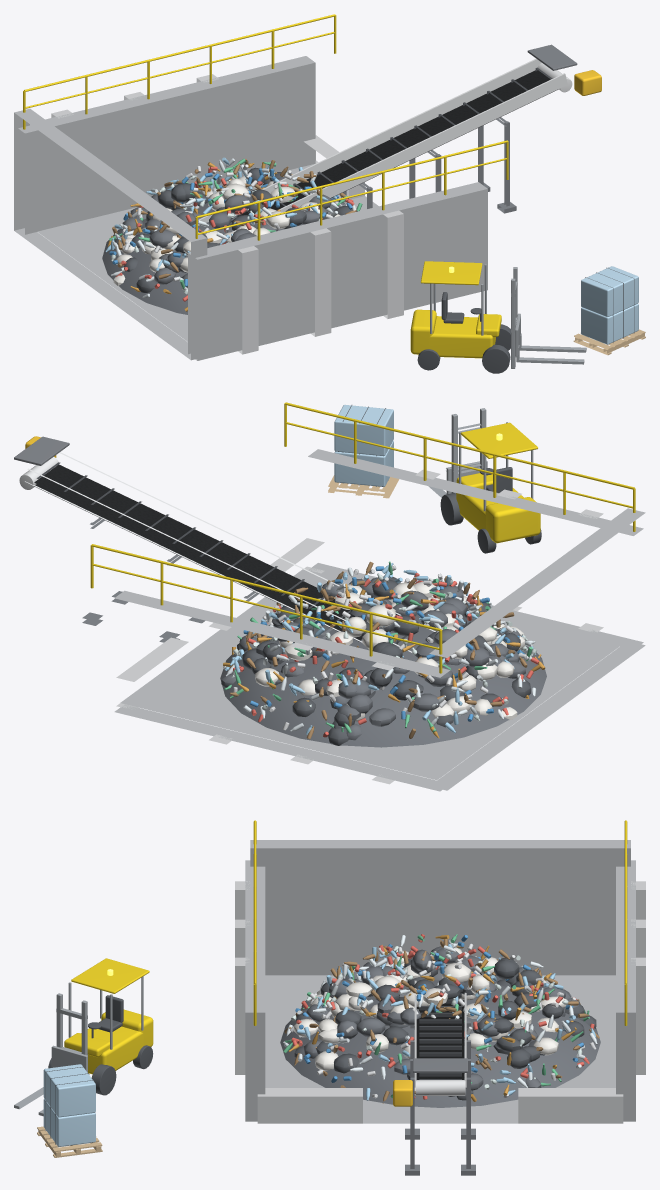
The model's file is recepcion.glb.
3 views of the same model, one above another, from view 1: azimuth 30°, elevation 25°; view 2: azimuth 150°, elevation 25°; view 3: azimuth 270°, elevation 25° (orthographic). The views are drawn at different scales.
Visible parts, largest first — view 1: hormigon, amarillo_seg, acero, hormigon_claro, res_base, llanta, banda_goma, paca_pet, bolsa_blanca, acero_oscuro, estructura_gris, res_pet_cola (+10 smaller); view 2: hormigon, res_base, amarillo_seg, banda_goma, llanta, bolsa_blanca, paca_pet, hormigon_claro, res_pet_claro, acero, res_pet_azul, res_pet_cola (+10 smaller); view 3: hormigon, res_base, hormigon_claro, llanta, amarillo_seg, bolsa_blanca, paca_pet, acero_oscuro, estructura_gris, res_pet_cola, res_pet_claro, res_pet_azul (+11 smaller).
Boxes of the visible parts, <box> form: hormigon: <box>14,56,487,360</box>; amarillo_seg: <box>23,14,508,358</box>; acero: <box>191,58,572,232</box>; hormigon_claro: <box>51,74,403,354</box>; res_base: <box>102,177,347,314</box>; llanta: <box>114,167,634,373</box>; banda_goma: <box>235,70,558,216</box>; paca_pet: <box>581,266,638,344</box>; bolsa_blanca: <box>113,176,340,286</box>; acero_oscuro: <box>342,44,577,213</box>; estructura_gris: <box>430,264,586,368</box>; res_pet_cola: <box>112,158,356,278</box>; hormigon: <box>114,449,645,791</box>; res_base: <box>220,577,546,747</box>; amarillo_seg: <box>90,402,635,673</box>; banda_goma: <box>34,464,362,641</box>; llanta: <box>237,405,541,745</box>; bolsa_blanca: <box>255,581,524,721</box>; paca_pet: <box>334,405,393,486</box>; hormigon_claro: <box>116,469,603,784</box>; res_pet_claro: <box>226,567,536,731</box>; acero: <box>19,452,435,652</box>; res_pet_azul: <box>225,563,536,734</box>; res_pet_cola: <box>230,561,527,739</box>; hormigon: <box>245,840,635,1123</box>; res_base: <box>280,946,600,1107</box>; hormigon_claro: <box>235,881,645,1123</box>; llanta: <box>45,957,596,1144</box>; amarillo_seg: <box>64,820,627,1074</box>; bolsa_blanca: <box>294,947,566,1096</box>; paca_pet: <box>43,1064,95,1146</box>; acero_oscuro: <box>405,1021,475,1175</box>; estructura_gris: <box>14,976,143,1116</box>; res_pet_cola: <box>284,939,599,1103</box>; res_pet_claro: <box>283,935,597,1087</box>; res_pet_azul: <box>297,944,595,1100</box>.
Size of the model in its own units: 11.85 by 3.45 by 12.61.
24 materials, 1 textured.
